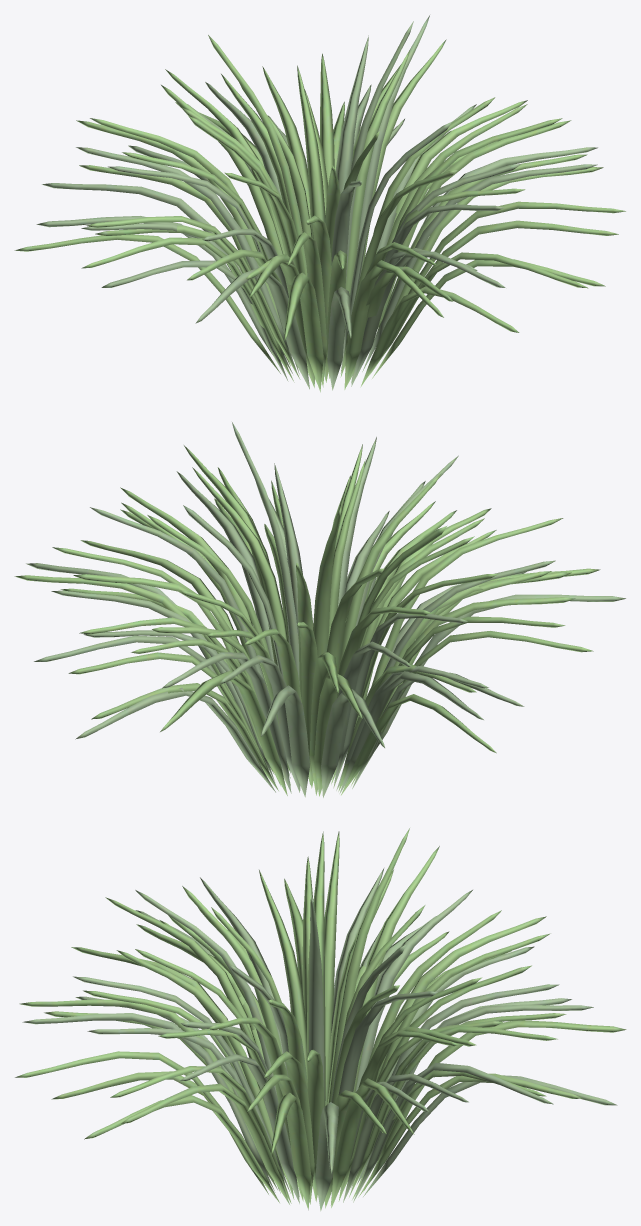
File: grass-clump.glb
3 views of the same model, one above another, from view 1: azimuth 30°, elevation 25°; view 2: azimuth 150°, elevation 25°; view 3: azimuth 270°, elevation 25° (orthographic).
Parts seen in each view (by area): view 1: grass-clump_body; view 2: grass-clump_body; view 3: grass-clump_body.
Boxes of the visible parts, box(x1,y1,x2,y2) form: grass-clump_body: box(14, 15, 625, 392); grass-clump_body: box(14, 422, 625, 797); grass-clump_body: box(15, 828, 626, 1211).
Size of the model in its own units: 0.6573 by 0.3881 by 0.6353.
1 material, 1 textured.
